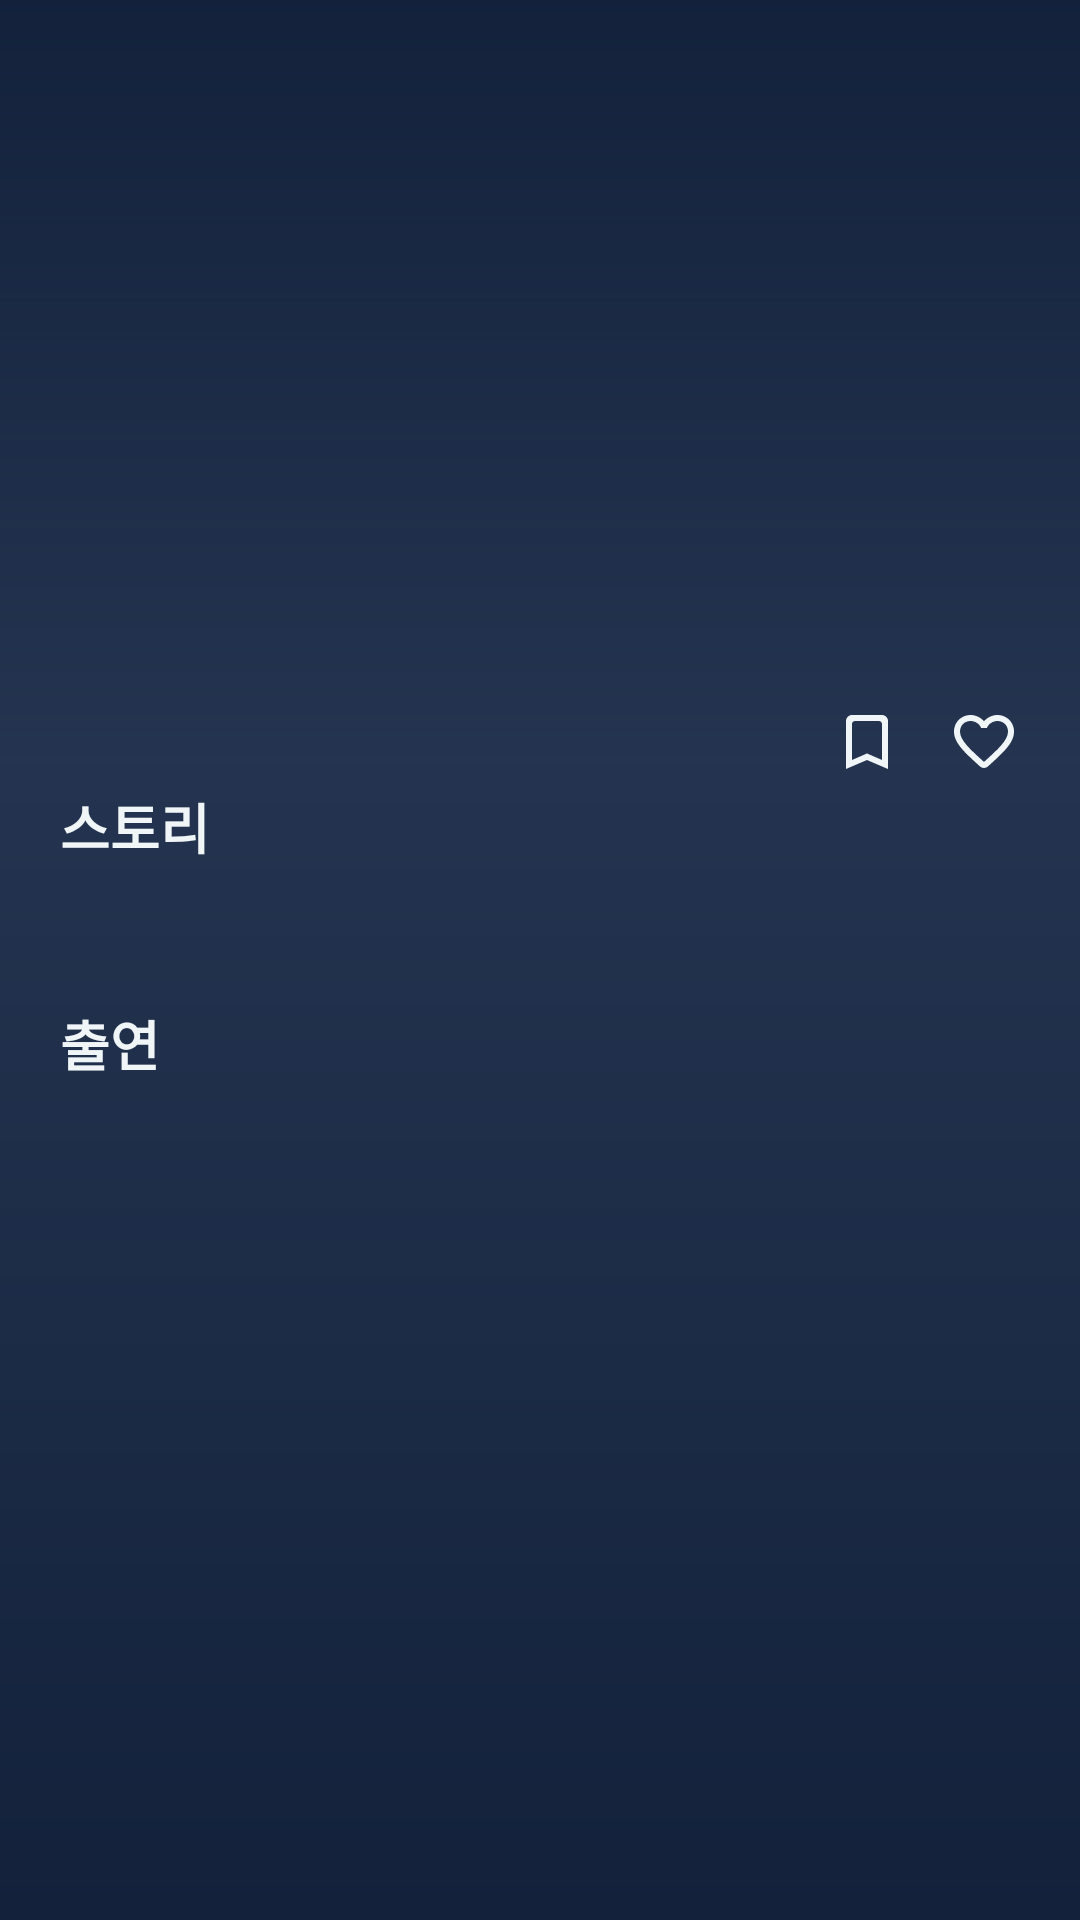

Where icons sit on this 1080×1920 app screen, as (x1, y1, x2, y2):
bookmark: (846, 715, 888, 769)
heart: (954, 715, 1014, 768)
